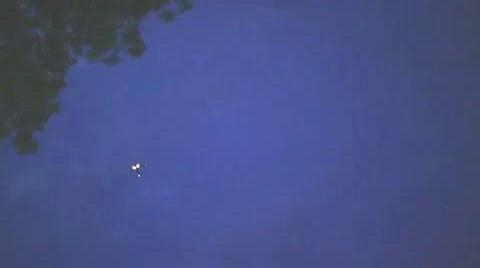Plane: (121, 158, 153, 178)
